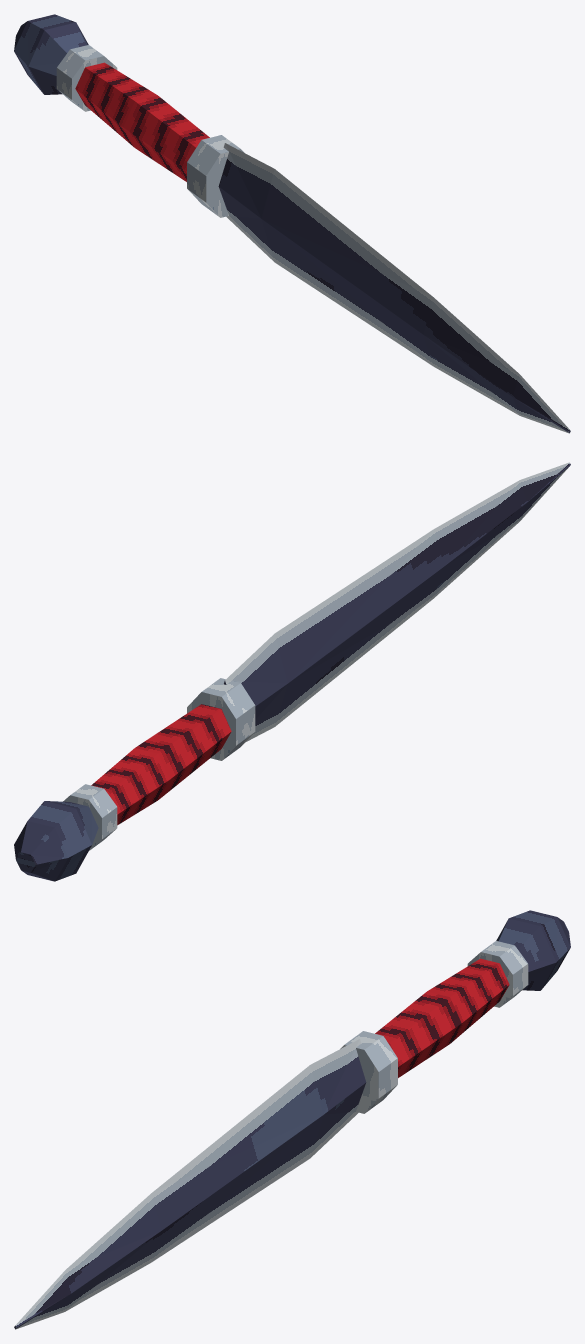
File: messer-a-aderlass.glb
3 renders of one model, top to bottom at view 1: azimuth 30°, elevation 25°; view 2: azimuth 150°, elevation 25°; view 3: azimuth 330°, elevation 25°, orthographic.
Visible parts, largest first — view 1: knife; view 2: knife; view 3: knife.
Part boxes in pixels (left/top/right/bottom): knife: left=14, top=14, right=570, bottom=433; knife: left=14, top=462, right=570, bottom=881; knife: left=14, top=910, right=570, bottom=1329.
Size of the model in its own units: 0.0346 by 0.0486 by 0.5112.
1 material, 1 textured.
